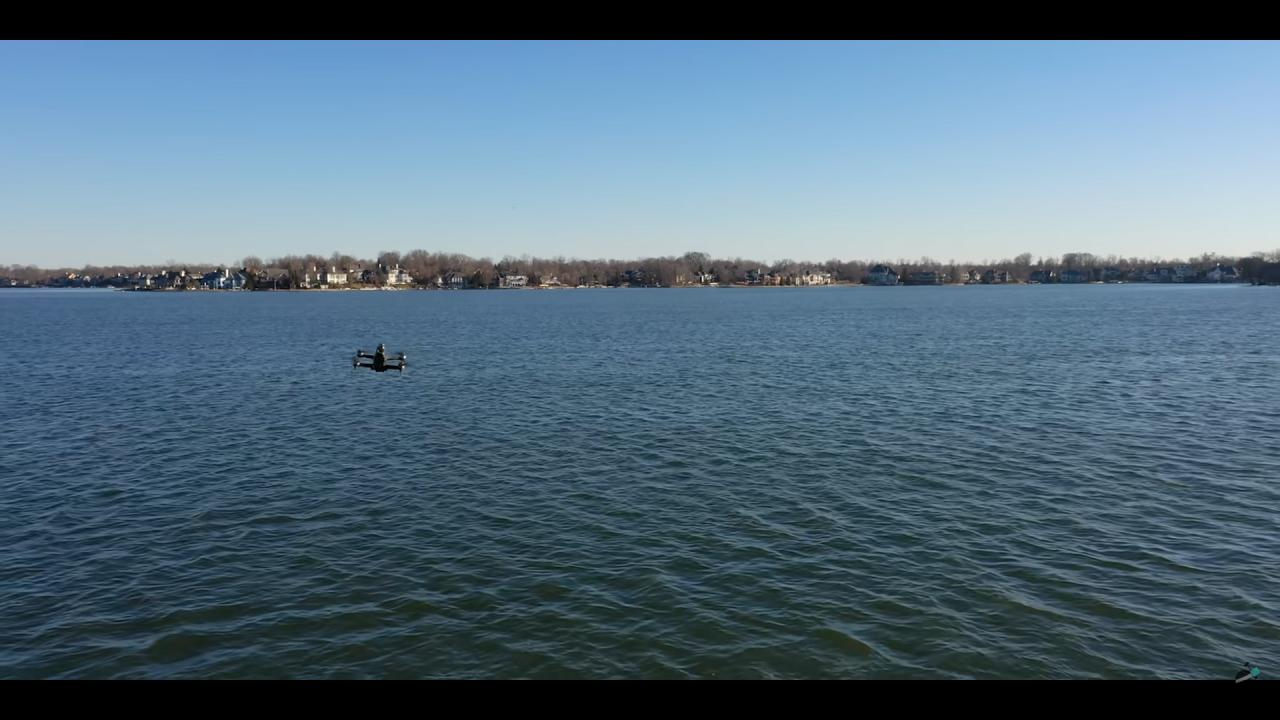Drone: (340, 336, 414, 380)
